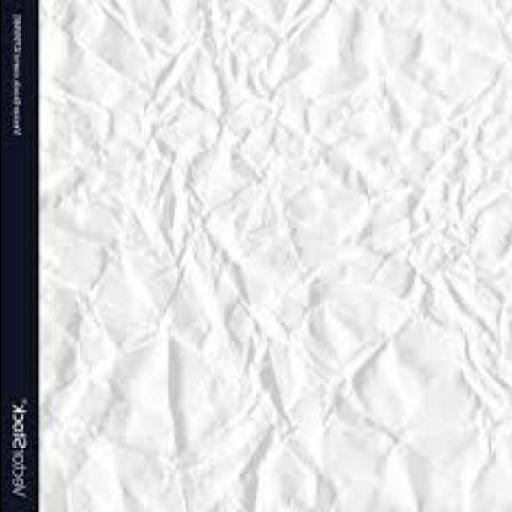paper: (40, 2, 510, 512)
